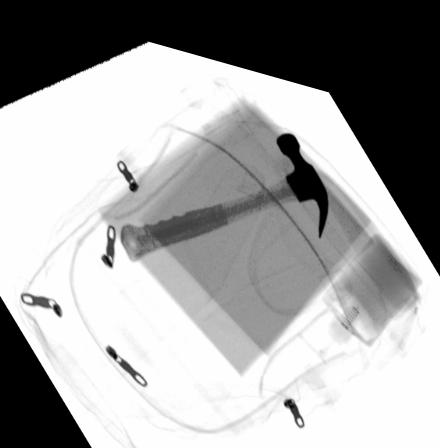Hammer: (117, 113, 330, 255)
